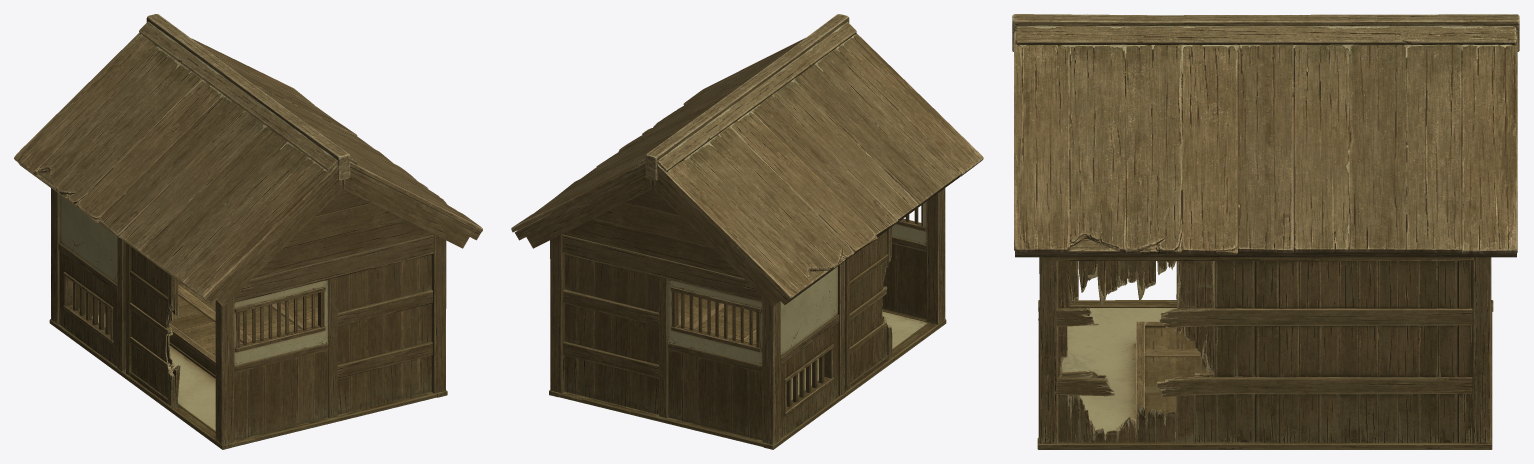
The model's file is Home1.fbx.
3 renders of one model, left to right at view 1: azimuth 30°, elevation 25°; view 2: azimuth 150°, elevation 25°; view 3: azimuth 270°, elevation 25°, orthographic. The views are drawn at different scales.
Visible parts, largest first — view 1: SM_a_005_BrokenHut_01a; view 2: SM_a_005_BrokenHut_01a; view 3: SM_a_005_BrokenHut_01a.
Boxes of the visible parts, x1,y1,x2,y2 form: SM_a_005_BrokenHut_01a: (14, 14, 482, 449); SM_a_005_BrokenHut_01a: (511, 14, 983, 449); SM_a_005_BrokenHut_01a: (1012, 14, 1519, 449).
Size of the model in its own units: 529 by 490 by 625.
